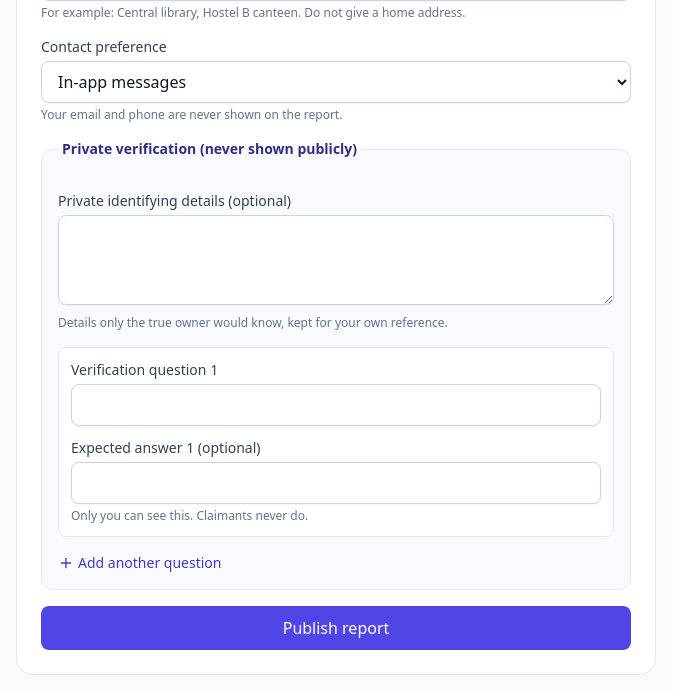
it: Report form › requires a verification question for a found report
(page scrolled)
Expected: the text "Private verification (never shown publicly)" is shown, 58,139 -> 361,159
Click the button "Publish report".
click(336, 628)  # box 41,606 -> 631,650
(page scrolled)
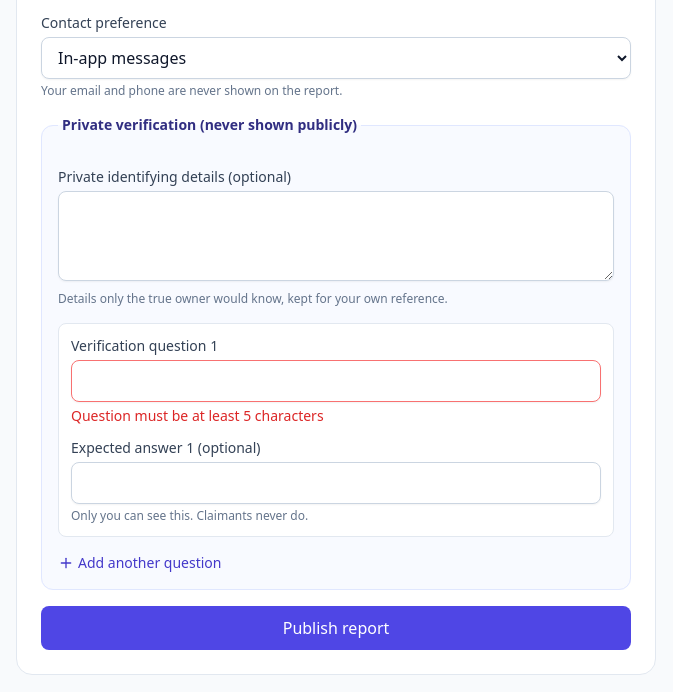
Expected: the text "Question must be at least 5 characters" is shown, 71,406 -> 324,425
